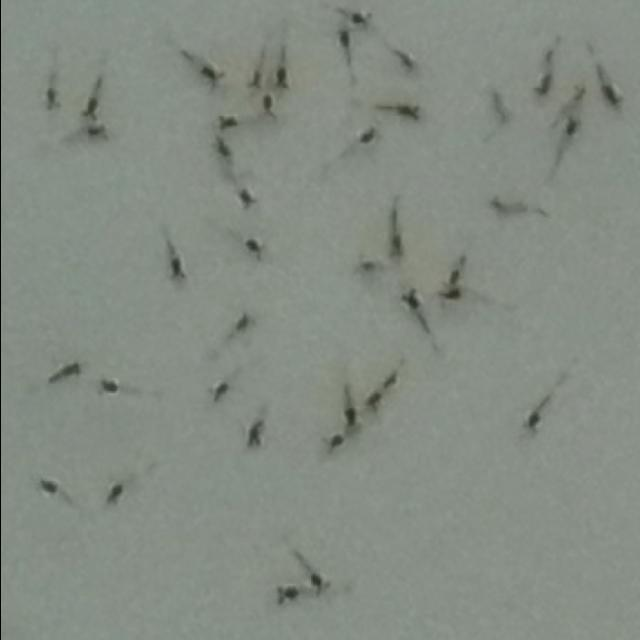shrimp-seed: (301, 550, 333, 596), (592, 66, 624, 111), (48, 357, 84, 388), (193, 58, 227, 90), (522, 398, 548, 438), (488, 195, 522, 224), (398, 286, 426, 320), (272, 580, 306, 608), (488, 89, 516, 122), (82, 78, 104, 120), (164, 242, 188, 280), (340, 398, 365, 434), (528, 70, 556, 102), (387, 210, 405, 258), (318, 429, 348, 457), (390, 100, 423, 124), (559, 110, 587, 138), (356, 254, 384, 282), (390, 47, 420, 73), (256, 92, 280, 124), (206, 380, 234, 406), (230, 312, 256, 338), (96, 375, 122, 401), (350, 6, 374, 34), (242, 420, 264, 450), (42, 83, 64, 113), (210, 136, 237, 160), (244, 68, 268, 94), (243, 238, 269, 262), (104, 482, 128, 508), (356, 125, 379, 152), (271, 64, 291, 94), (232, 187, 258, 210), (362, 390, 386, 414), (38, 476, 62, 500), (570, 82, 592, 108), (213, 112, 240, 132), (439, 286, 465, 306), (334, 28, 352, 56), (82, 124, 110, 142), (444, 267, 462, 287)
